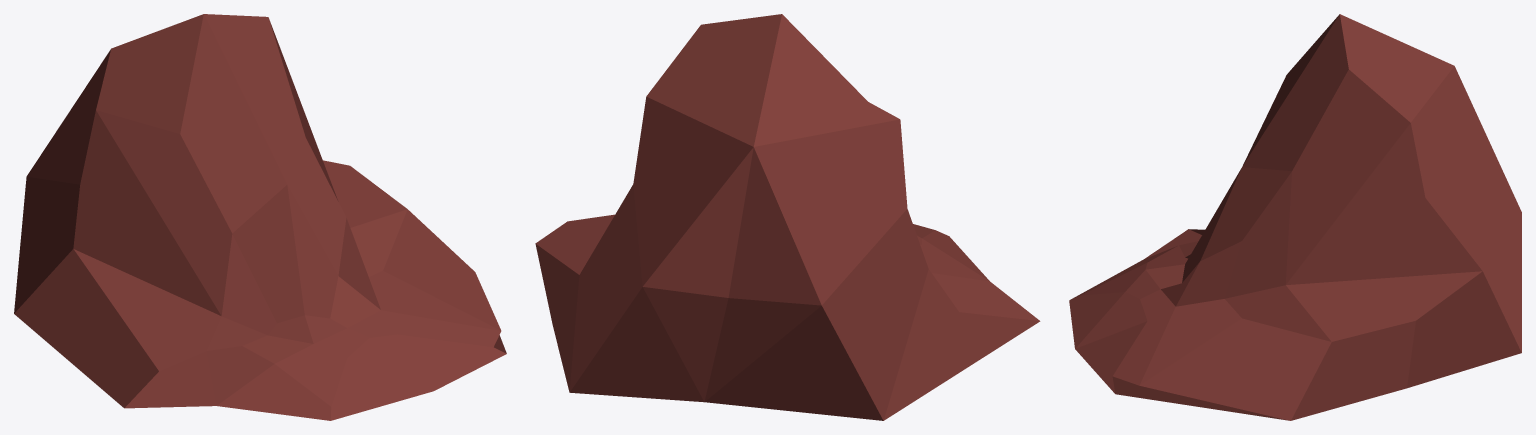
Rendered from Rock_13_Red.fbx.
3 views of the same model, side by side, from view 1: azimuth 30°, elevation 25°; view 2: azimuth 150°, elevation 25°; view 3: azimuth 270°, elevation 25° (orthographic). The views are drawn at different scales.
Parts seen in each view (by area): view 1: Rock_13_Red; view 2: Rock_13_Red; view 3: Rock_13_Red.
Boxes of the visible parts, x1=… form: Rock_13_Red: x1=14, y1=14, x2=506, y2=420; Rock_13_Red: x1=535, y1=14, x2=1040, y2=420; Rock_13_Red: x1=1069, y1=14, x2=1521, y2=420.
Size of the model in its own units: 335 by 239 by 335.
